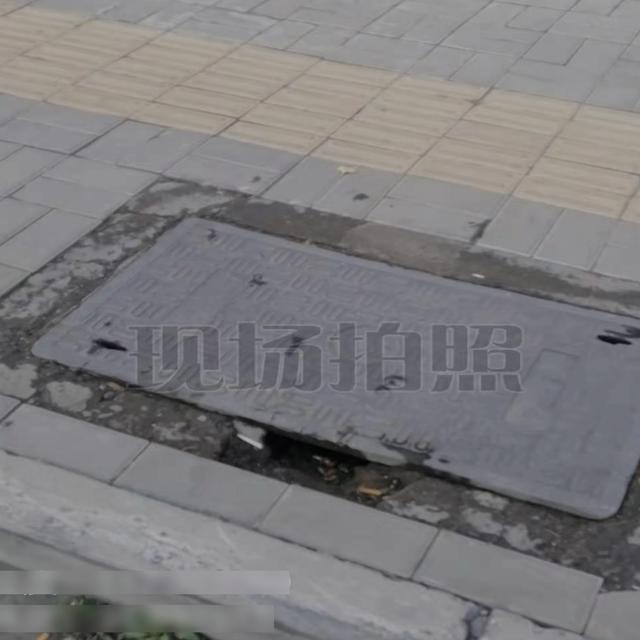circle: (0, 177, 640, 552)
